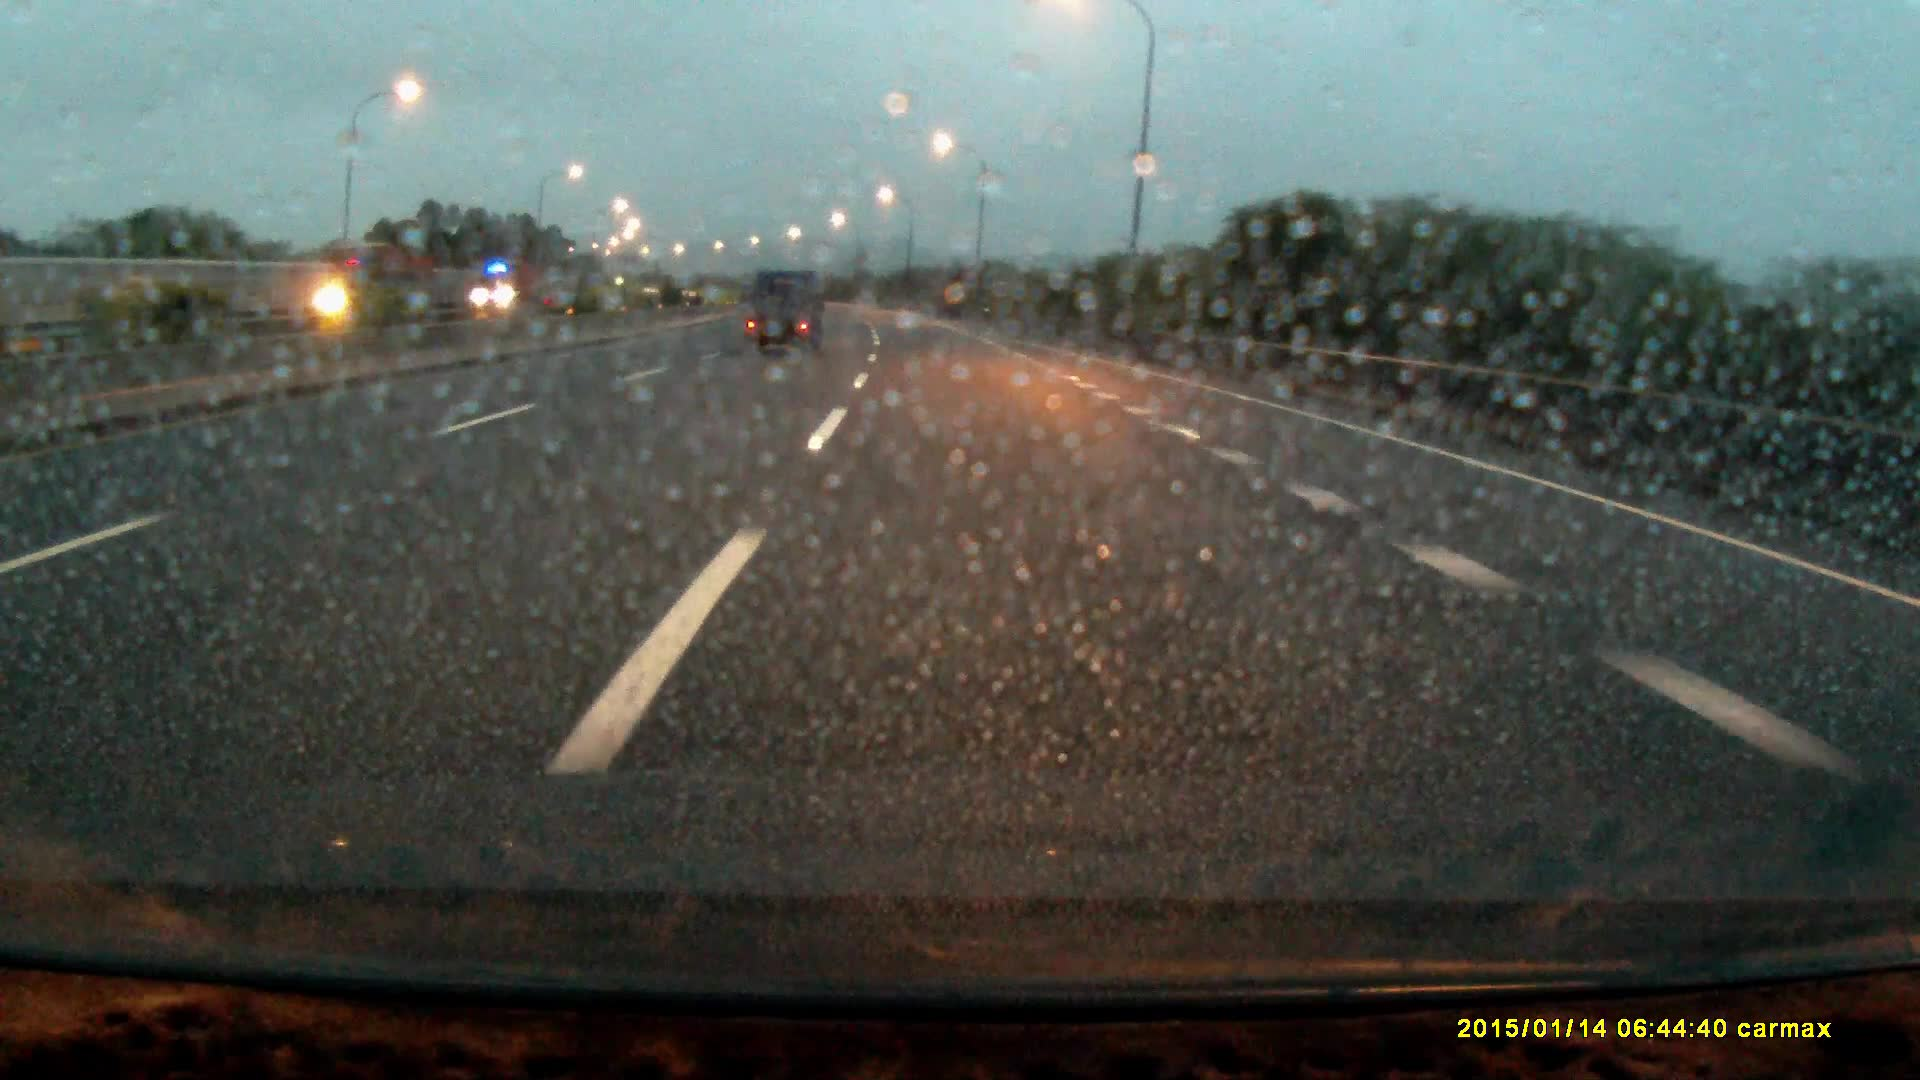vehicle: (313, 249, 440, 326), (742, 269, 822, 360), (471, 262, 547, 315)
